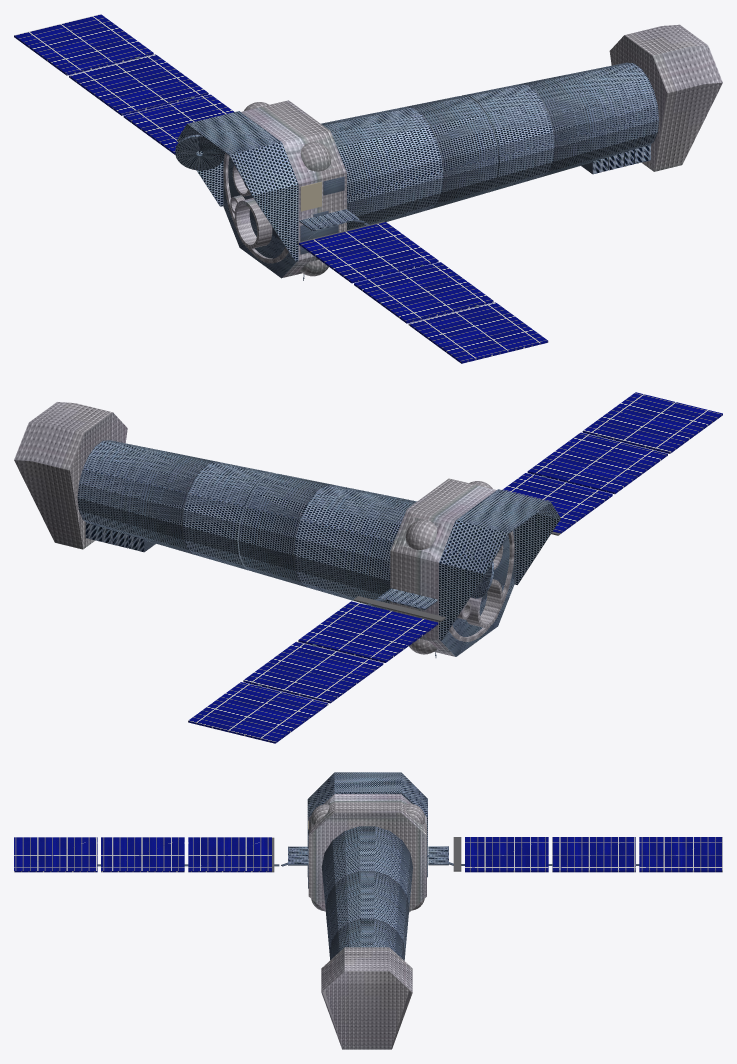
File: xmm.obj
3 views of the same model, one above another, from view 1: azimuth 30°, elevation 25°; view 2: azimuth 150°, elevation 25°; view 3: azimuth 270°, elevation 25° (orthographic). The views are drawn at different scales.
Visible parts, largest first — view 1: Cylinder01_02_-_Defau, Box02_02_-_Default, Line01_02_-_Default, Box04_02_-_Default, Rectangle2_09_-_Defau, Rectangle1_09_-_Defau, Rectangle1_09_-_D.002_Rectangle1_09_-_D, Rectangle0_09_-_Defau, Rectangle2_09_-_D.002_Rectangle2_09_-_D, Rectangle0_09_-_D.002_Rectangle0_09_-_D, Object01_02_-_Default, Tube01_03_-_Default (+5 smaller); view 2: Cylinder01_02_-_Defau, Box02_02_-_Default, Line01_02_-_Default, Box04_02_-_Default, Rectangle2_09_-_D.002_Rectangle2_09_-_D, Rectangle1_09_-_Defau, Rectangle2_09_-_Defau, Rectangle1_09_-_D.002_Rectangle1_09_-_D, Rectangle0_09_-_D.002_Rectangle0_09_-_D, Rectangle0_09_-_Defau, Object01_02_-_Default, Tube01_03_-_Default (+4 smaller); view 3: Cylinder01_02_-_Defau, Box02_02_-_Default, Box04_02_-_Default, Rectangle2_09_-_D.002_Rectangle2_09_-_D, Rectangle1_09_-_D.002_Rectangle1_09_-_D, Rectangle0_09_-_D.002_Rectangle0_09_-_D, Rectangle0_09_-_Defau, Rectangle1_09_-_Defau, Rectangle2_09_-_Defau, Line01_02_-_Default.
Boxes of the visible parts, bbox=[...] form: Cylinder01_02_-_Defau: bbox=[321, 62, 659, 230]; Box02_02_-_Default: bbox=[609, 24, 722, 171]; Line01_02_-_Default: bbox=[177, 111, 298, 261]; Box04_02_-_Default: bbox=[241, 100, 346, 277]; Rectangle2_09_-_Defau: bbox=[408, 302, 548, 363]; Rectangle1_09_-_Defau: bbox=[354, 262, 493, 323]; Rectangle1_09_-_D.002_Rectangle1_09_-_D: bbox=[69, 54, 208, 115]; Rectangle0_09_-_Defau: bbox=[299, 222, 438, 283]; Rectangle2_09_-_D.002_Rectangle2_09_-_D: bbox=[14, 14, 153, 75]; Rectangle0_09_-_D.002_Rectangle0_09_-_D: bbox=[123, 94, 233, 154]; Object01_02_-_Default: bbox=[223, 143, 298, 278]; Tube01_03_-_Default: bbox=[234, 198, 272, 248]; Cylinder01_02_-_Defau: bbox=[77, 440, 416, 610]; Box02_02_-_Default: bbox=[14, 402, 127, 549]; Line01_02_-_Default: bbox=[439, 489, 560, 640]; Box04_02_-_Default: bbox=[390, 478, 496, 656]; Rectangle2_09_-_D.002_Rectangle2_09_-_D: bbox=[188, 682, 328, 743]; Rectangle1_09_-_Defau: bbox=[527, 432, 667, 494]; Rectangle2_09_-_Defau: bbox=[582, 392, 722, 453]; Rectangle1_09_-_D.002_Rectangle1_09_-_D: bbox=[243, 641, 383, 703]; Rectangle0_09_-_D.002_Rectangle0_09_-_D: bbox=[298, 601, 438, 662]; Rectangle0_09_-_Defau: bbox=[502, 473, 612, 533]; Object01_02_-_Default: bbox=[439, 521, 514, 656]; Tube01_03_-_Default: bbox=[466, 579, 502, 627]; Cylinder01_02_-_Defau: bbox=[321, 826, 412, 960]; Box02_02_-_Default: bbox=[321, 947, 412, 1049]; Box04_02_-_Default: bbox=[308, 794, 426, 912]; Rectangle2_09_-_D.002_Rectangle2_09_-_D: bbox=[639, 837, 722, 872]; Rectangle1_09_-_D.002_Rectangle1_09_-_D: bbox=[552, 837, 635, 872]; Rectangle0_09_-_D.002_Rectangle0_09_-_D: bbox=[465, 837, 548, 872]; Rectangle0_09_-_Defau: bbox=[188, 837, 271, 872]; Rectangle1_09_-_Defau: bbox=[101, 837, 184, 872]; Rectangle2_09_-_Defau: bbox=[14, 837, 97, 872]; Line01_02_-_Default: bbox=[307, 772, 427, 877].
Bounding box in the file's own units: 4.27 × 1.38 × 6.81.
